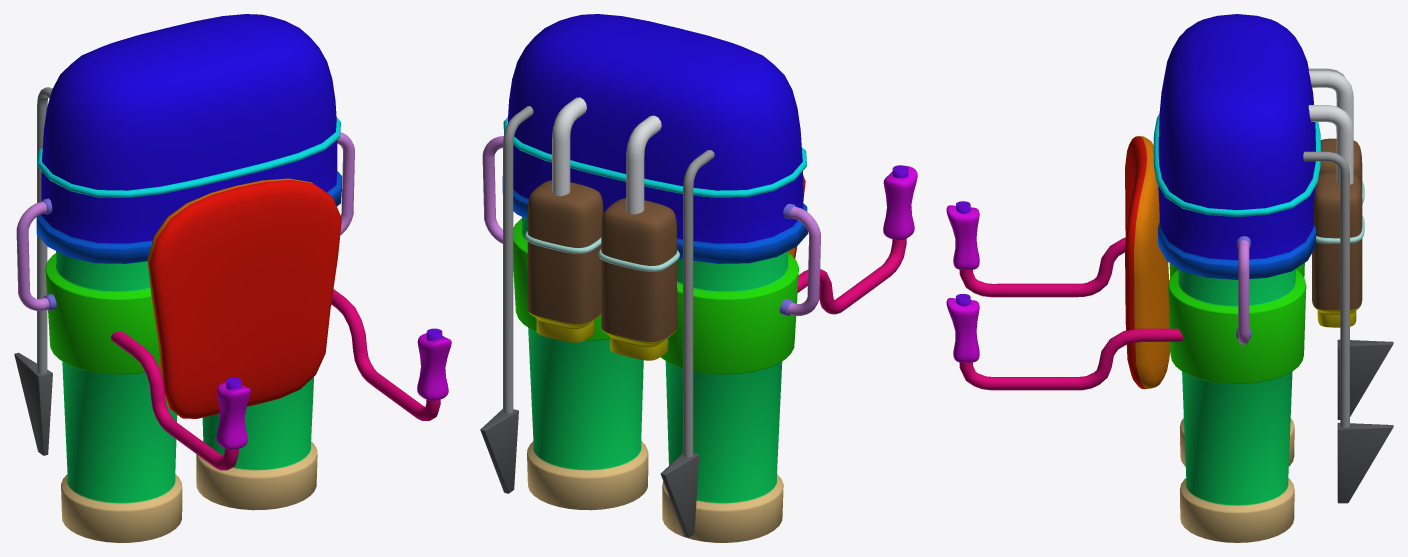
The model's file is uploads_files_3723442_Jetpack+C+-+FBX.fbx.
3 renders of one model, left to right at view 1: azimuth 30°, elevation 25°; view 2: azimuth 150°, elevation 25°; view 3: azimuth 270°, elevation 25°, orthographic. The views are drawn at different scales.
Parts seen in each view (by area): view 1: Cube.010; view 2: Cube.010; view 3: Cube.010.
Boxes of the visible parts, x1,y1,x2,y2 form: Cube.010: [14, 14, 451, 542]; Cube.010: [480, 14, 917, 542]; Cube.010: [946, 14, 1393, 542].
Bounding box in the file's own units: 82.61 × 109 × 100.
